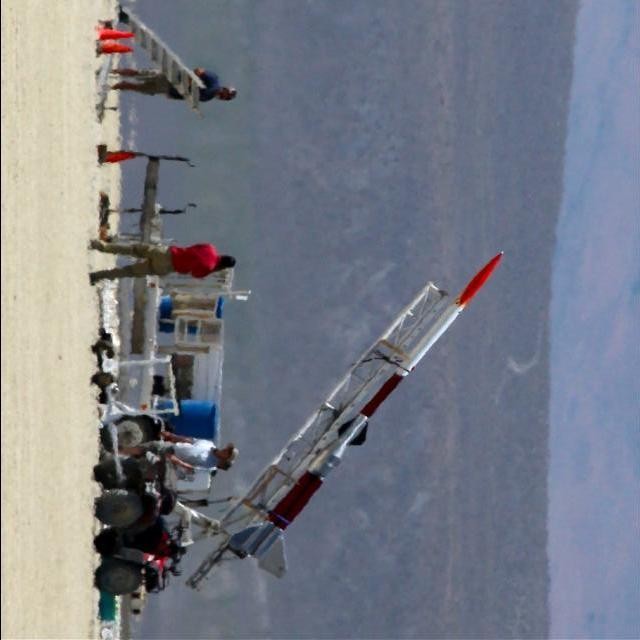missile: (218, 238, 520, 590)
